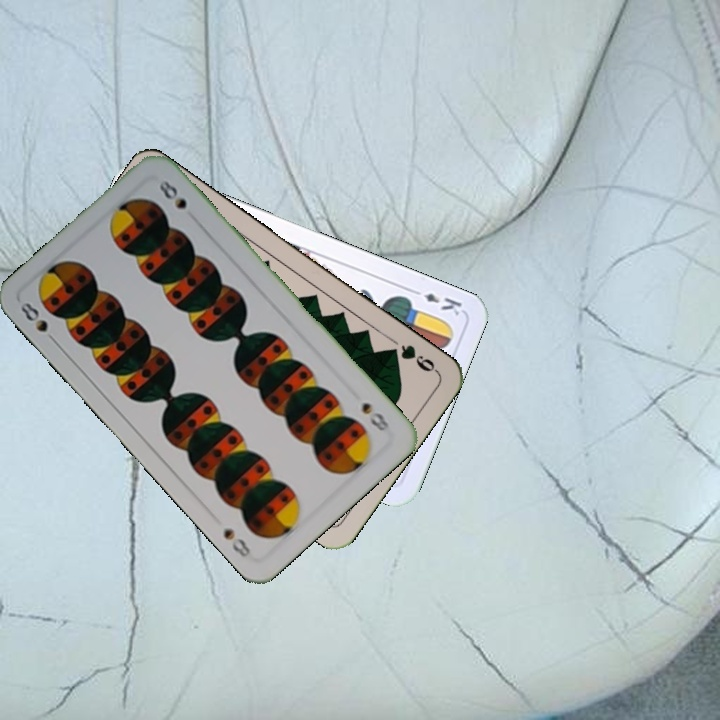EK: (407, 284, 465, 318)
G9: (383, 340, 441, 375)
S8: (16, 297, 61, 347), (357, 398, 393, 434)
